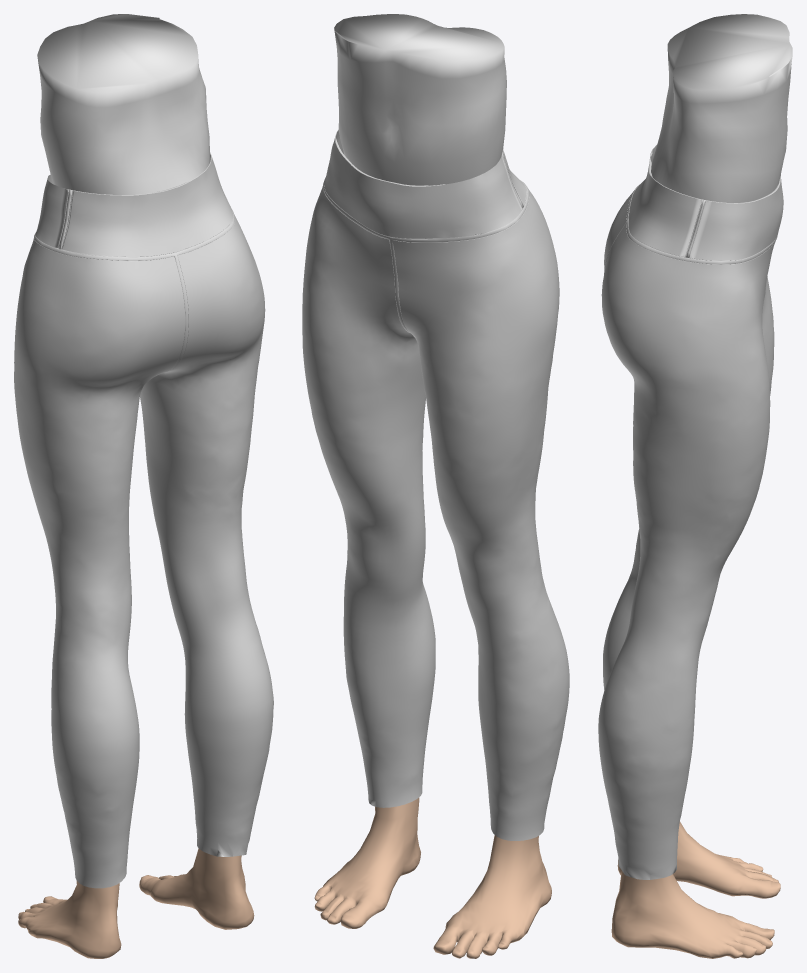
The model's file is Leggings.glb.
The picture shows the model from 3 angles, left to right: view 1: azimuth 30°, elevation 25°; view 2: azimuth 150°, elevation 25°; view 3: azimuth 270°, elevation 25°; orthographic projection. The views are drawn at different scales.
Parts seen in each view (by area): view 1: Leggings, Belly, FeetR, FeetL; view 2: Leggings, Belly, FeetR, FeetL; view 3: Leggings, Belly, FeetL, FeetR.
Part boxes in pixels (x1=…): Leggings: x1=14, y1=152, x2=273, y2=888; Belly: x1=37, y1=14, x2=209, y2=194; FeetR: x1=18, y1=881, x2=121, y2=958; FeetL: x1=139, y1=848, x2=254, y2=929; Leggings: x1=302, y1=129, x2=569, y2=840; Belly: x1=334, y1=14, x2=506, y2=185; FeetR: x1=433, y1=835, x2=551, y2=958; FeetL: x1=314, y1=797, x2=420, y2=928; Leggings: x1=598, y1=144, x2=783, y2=879; Belly: x1=651, y1=14, x2=792, y2=202; FeetL: x1=611, y1=871, x2=774, y2=958; FeetR: x1=617, y1=821, x2=780, y2=898.
Size of the model in its own units: 0.3206 by 1.17 by 0.2347.
